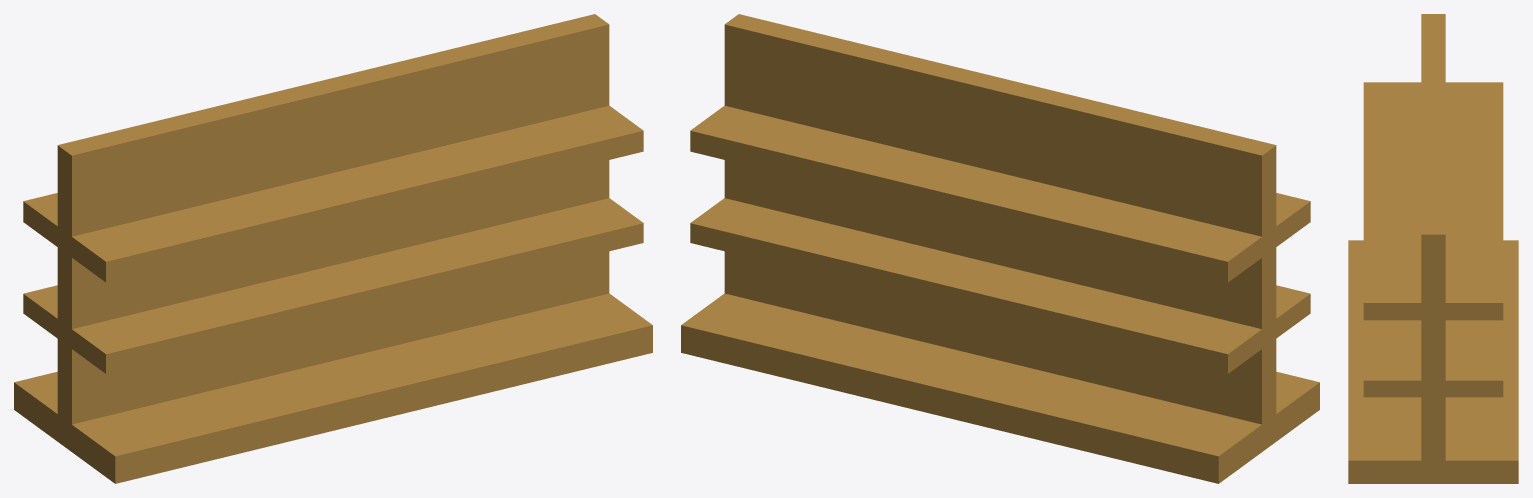
The model's file is shelf type 2.fbx.
3 renders of one model, left to right at view 1: azimuth 30°, elevation 25°; view 2: azimuth 150°, elevation 25°; view 3: azimuth 270°, elevation 25°, orthographic. The views are drawn at different scales.
Visible parts, largest first — view 1: shelf 2.1; view 2: shelf 2.1; view 3: shelf 2.1.
Boxes of the visible parts, box(x1,y1,x2,y2) form: shelf 2.1: box(14, 14, 652, 483); shelf 2.1: box(681, 14, 1319, 483); shelf 2.1: box(1348, 14, 1518, 483).
Size of the model in its own units: 826 by 435 by 269.
1 material, 1 textured.
